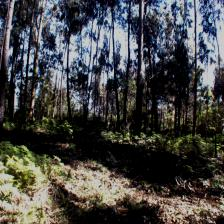trunktrack_idkeyframe: (134, 36, 143, 134), (25, 64, 38, 120), (113, 81, 122, 131), (8, 67, 15, 121), (66, 74, 73, 122), (151, 94, 159, 134), (192, 92, 197, 137), (123, 88, 128, 123)
